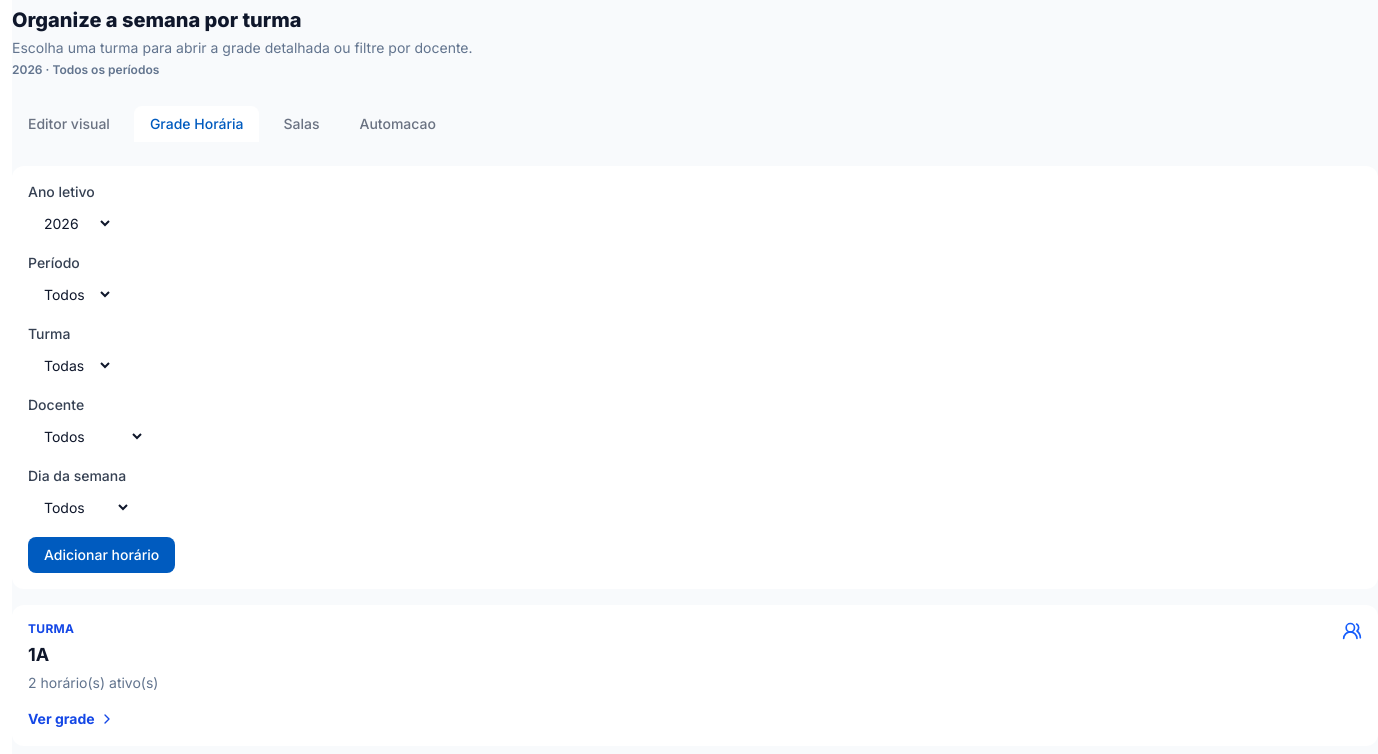
TimetableTab › renderiza grade horaria com entradas
The image size is (1378, 754).
Expected: the element named "Turmas na grade" is shown, [12, 605, 1377, 746]
Step 1. Click the button "Ver grade" → (71, 719), box [28, 709, 115, 729]
(page scrolled)
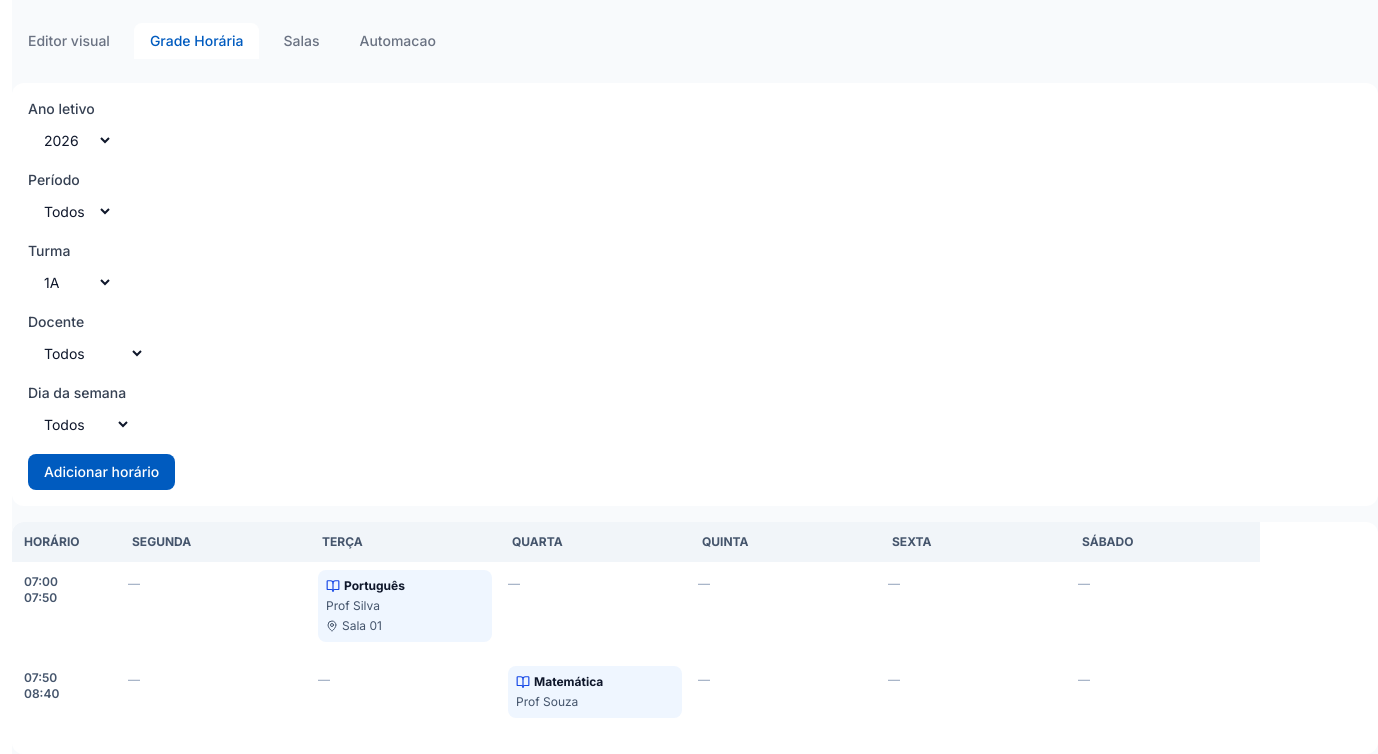
Expected: the text "Português" is shown, [326, 578, 405, 593]
Expected: the text "Matemática" is shown, [516, 674, 603, 689]
